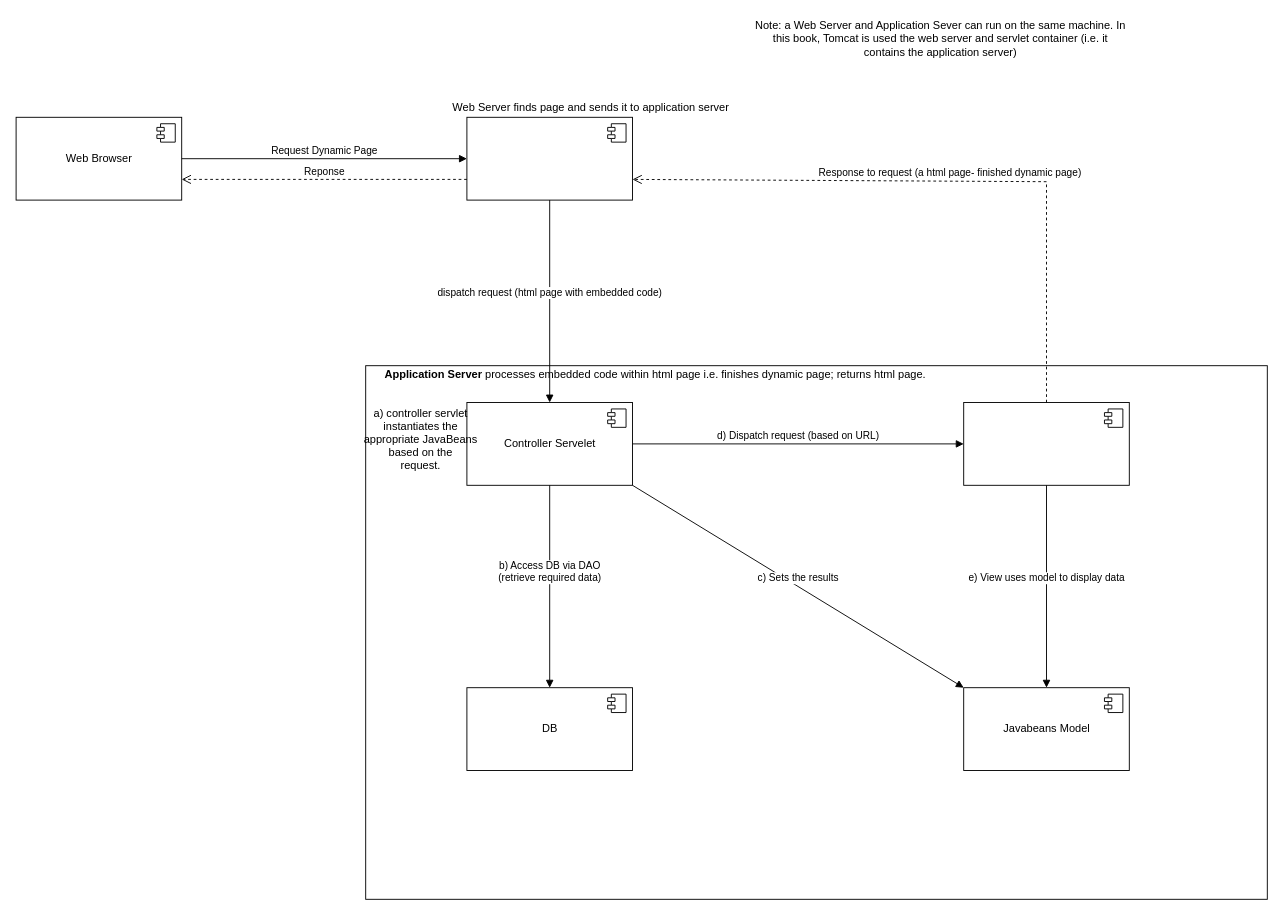
The diagram is 1283 pixels wide and 915 high, and some of its shapes have lost their labels. Here are the shapes that lost their labels. From the top down, the centre of each, then its label:
the point at 549,158: Web Server
the point at 1046,443: View JSP
